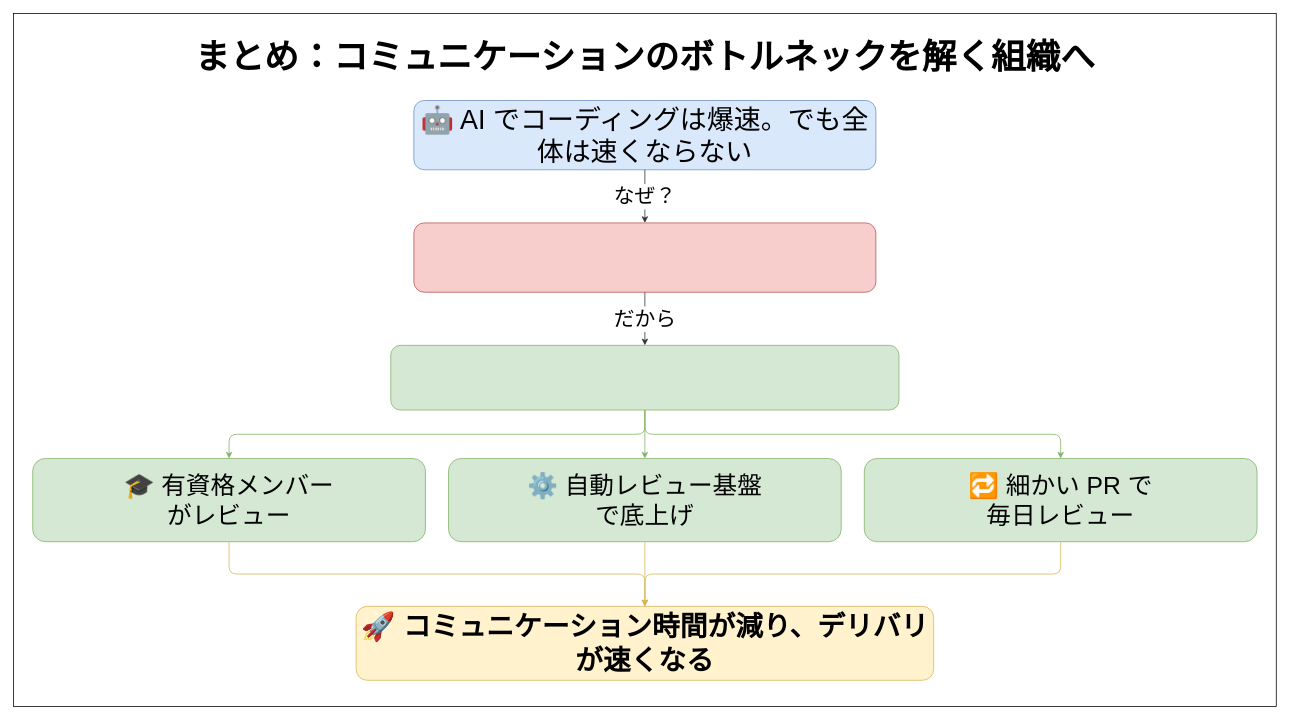
This 1290x720 diagram has some shape labels left out. Here are the shapes that lost their labels. From the top down, the box of each, then its label:
(413, 222, 876, 292): ⏳ ボトルネックはチーム間コミュニケーション
(390, 345, 899, 410): 🏠 解決策：自チーム内で完結させる
